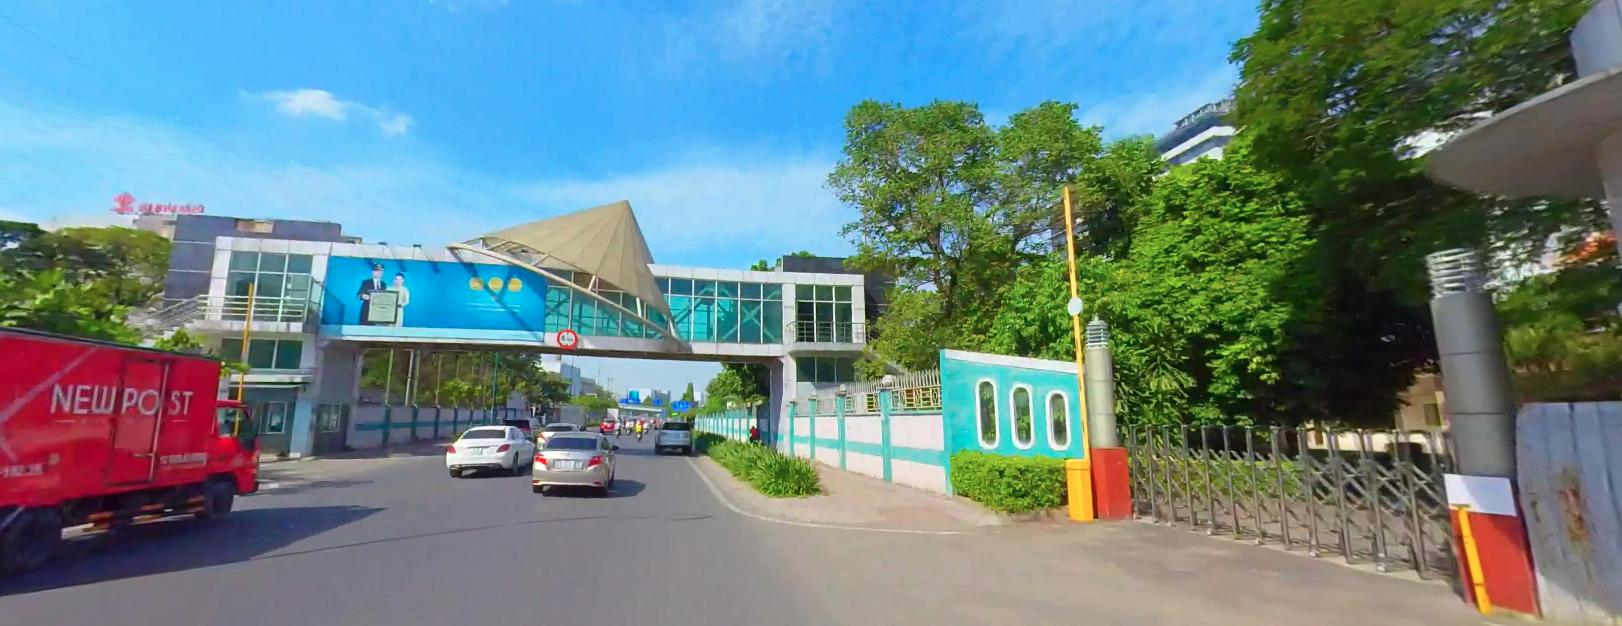Cam con lai: (555, 327, 577, 346)
